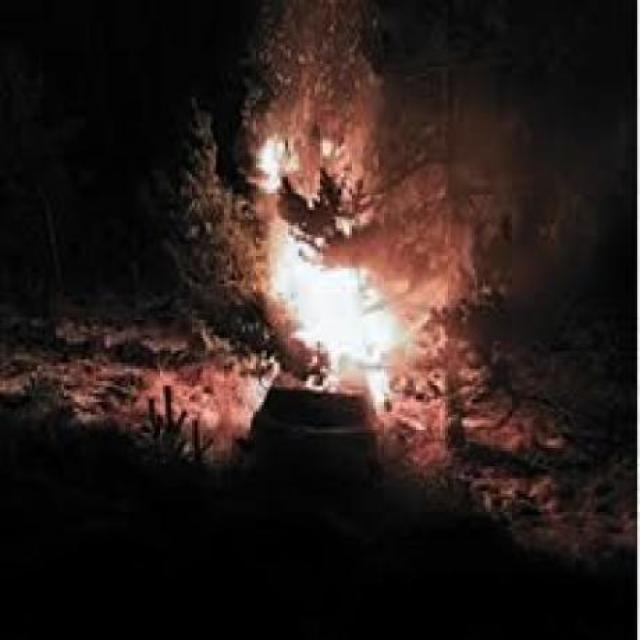Fire: (254, 141, 431, 410)
Smoke: (413, 110, 634, 275), (240, 3, 424, 136)
